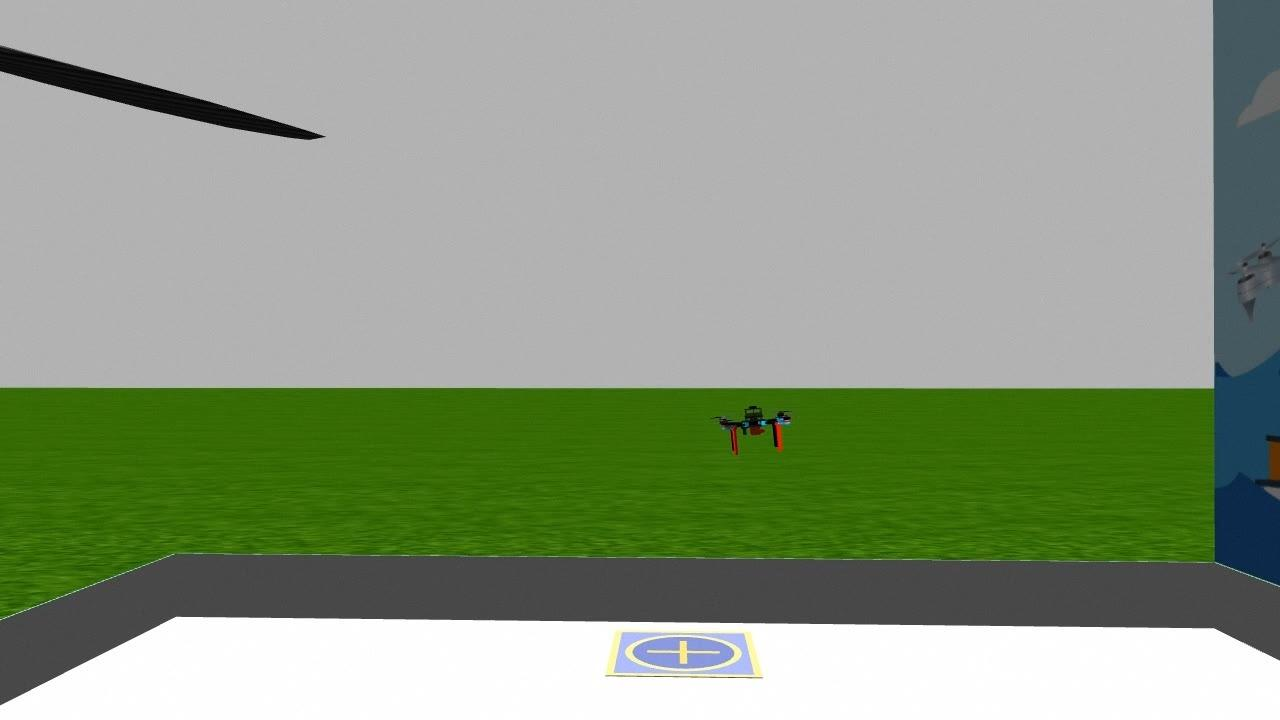UAV: (709, 400, 799, 460)
